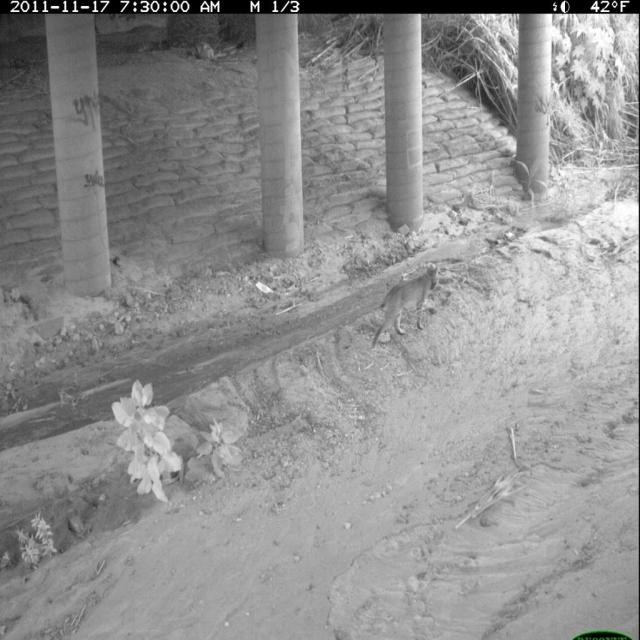bobcat: (368, 260, 445, 355)
